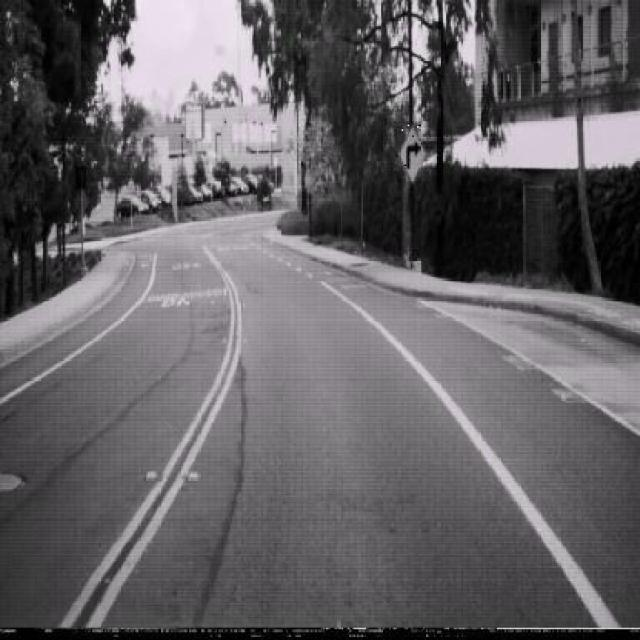turnRight: (399, 123, 426, 183)
